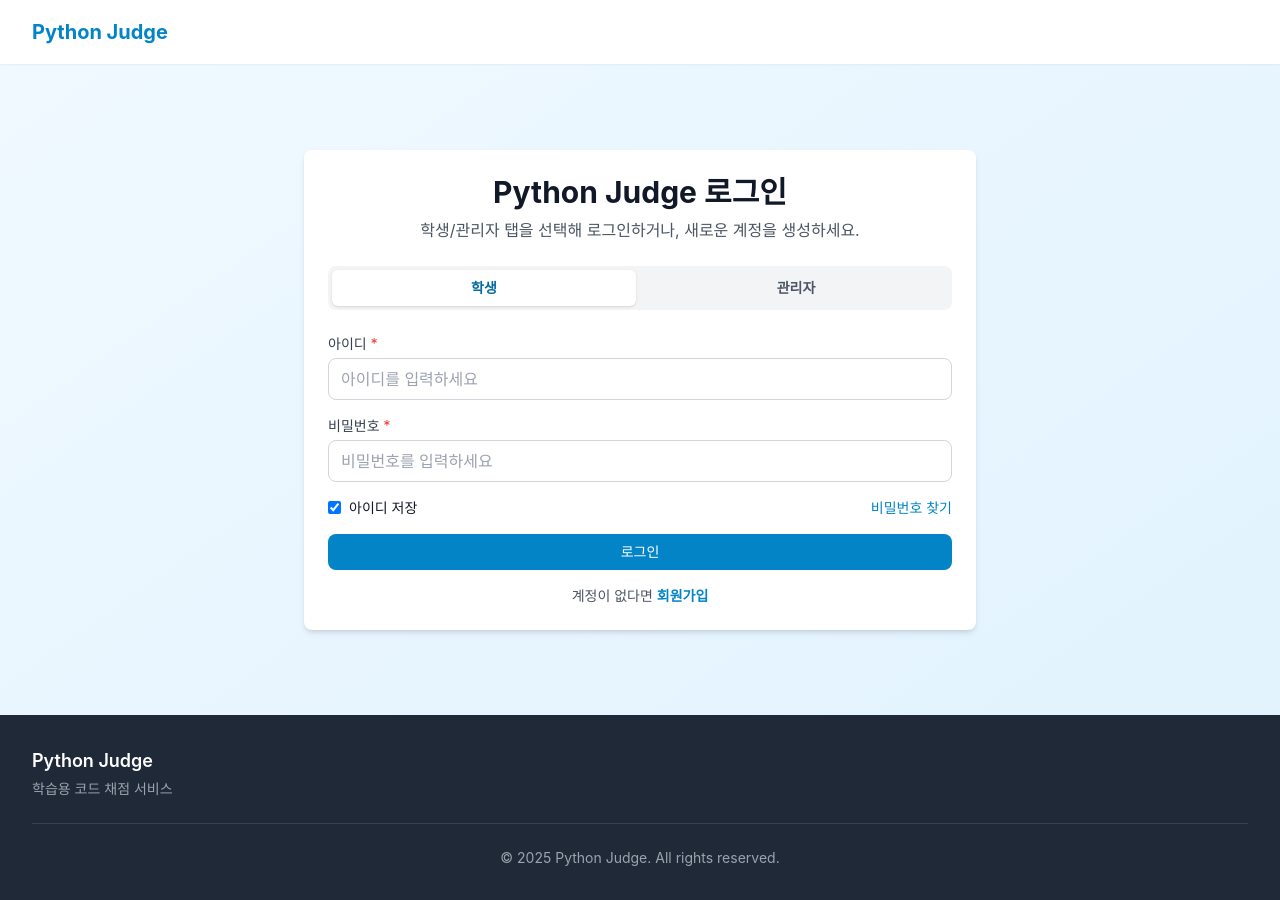
LoginPage › 로그인 실패 시 오류 메시지를 보여준다
Type "wrong" into the field with placeholder "아이디를 입력하세요" at (640, 378), box x1=328 y1=358 x2=952 y2=400
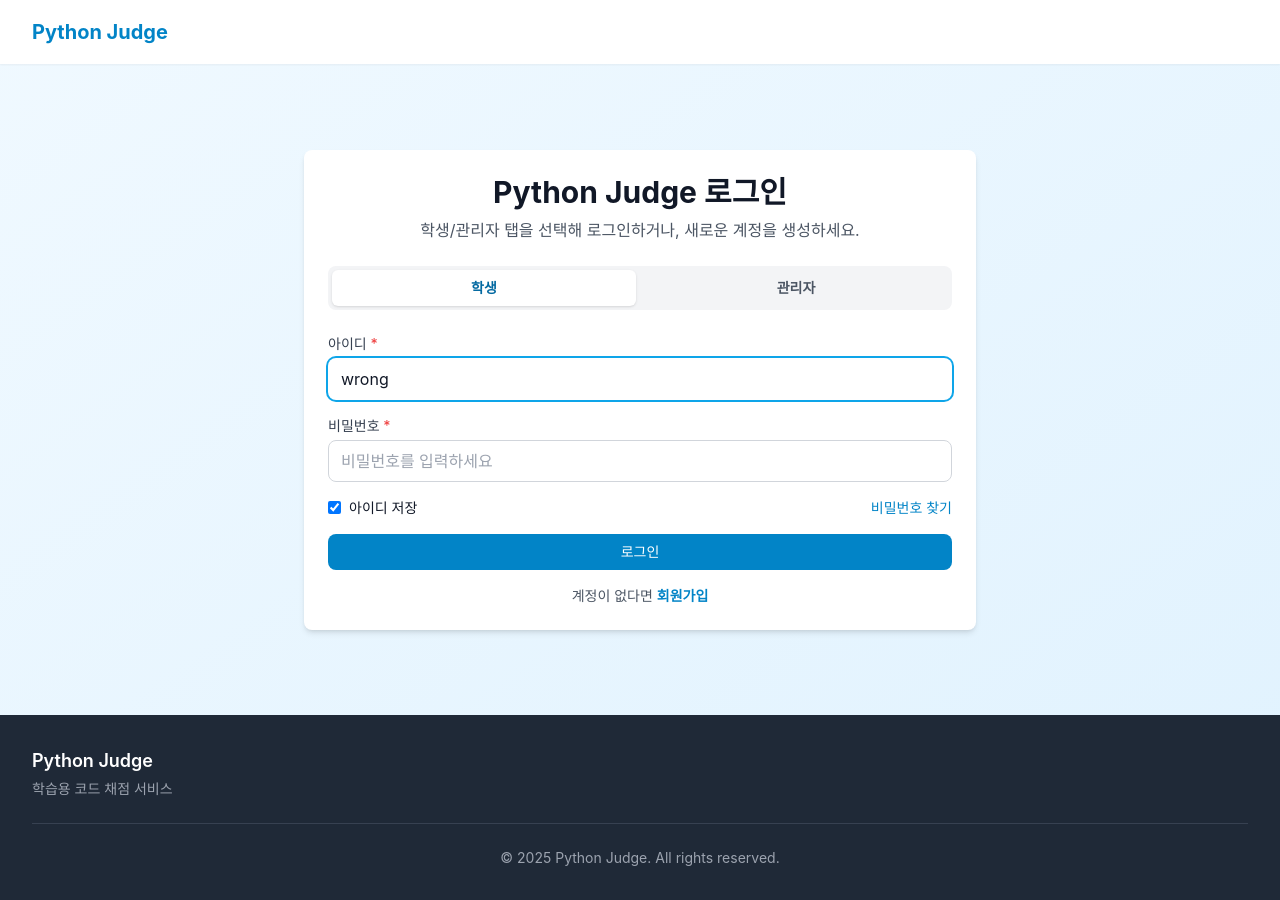
Type "wrong" into the password field with placeholder "비밀번호를 입력하세요" at (640, 460), box x1=328 y1=440 x2=952 y2=482
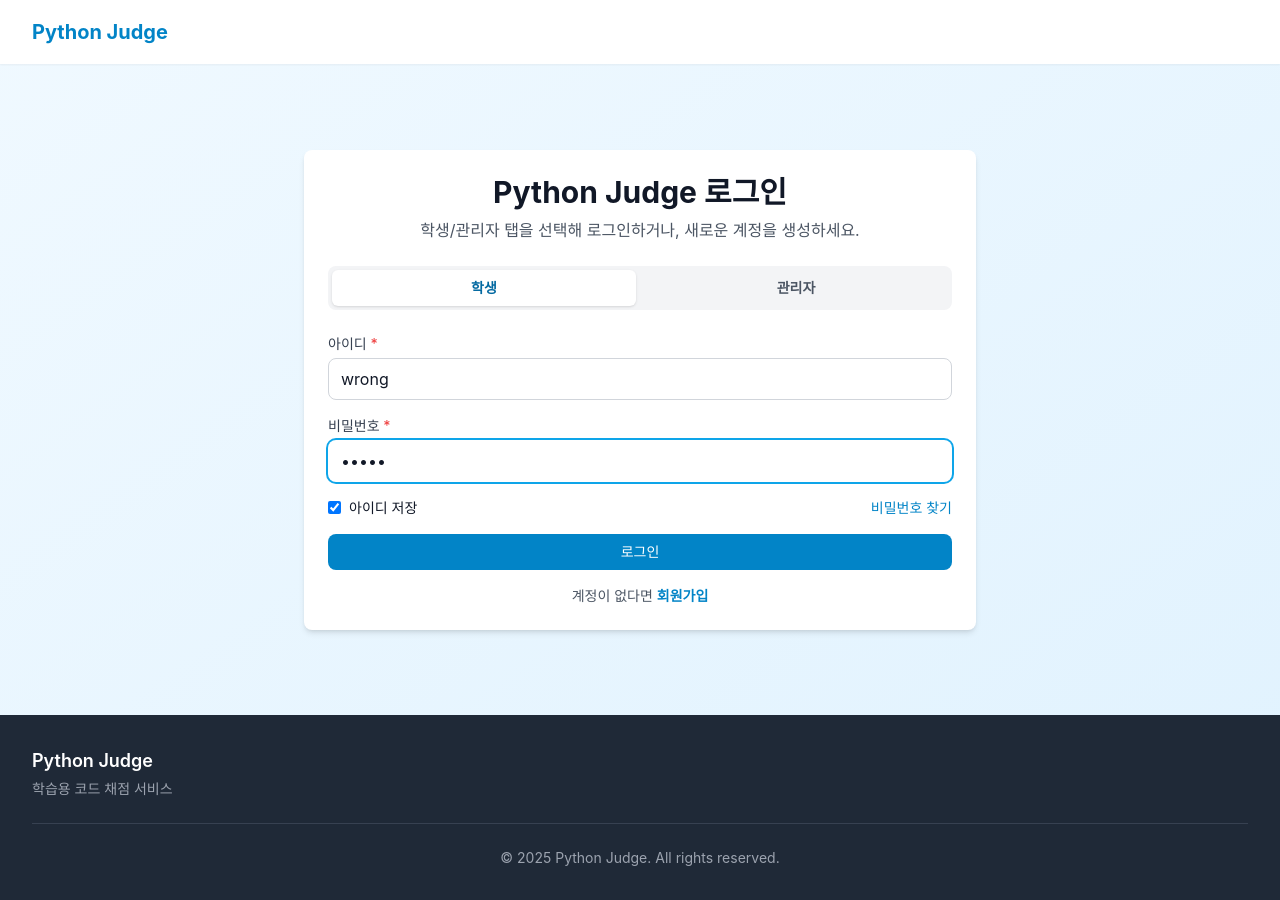
Click the button "로그인" at (640, 552), box x1=328 y1=534 x2=952 y2=570
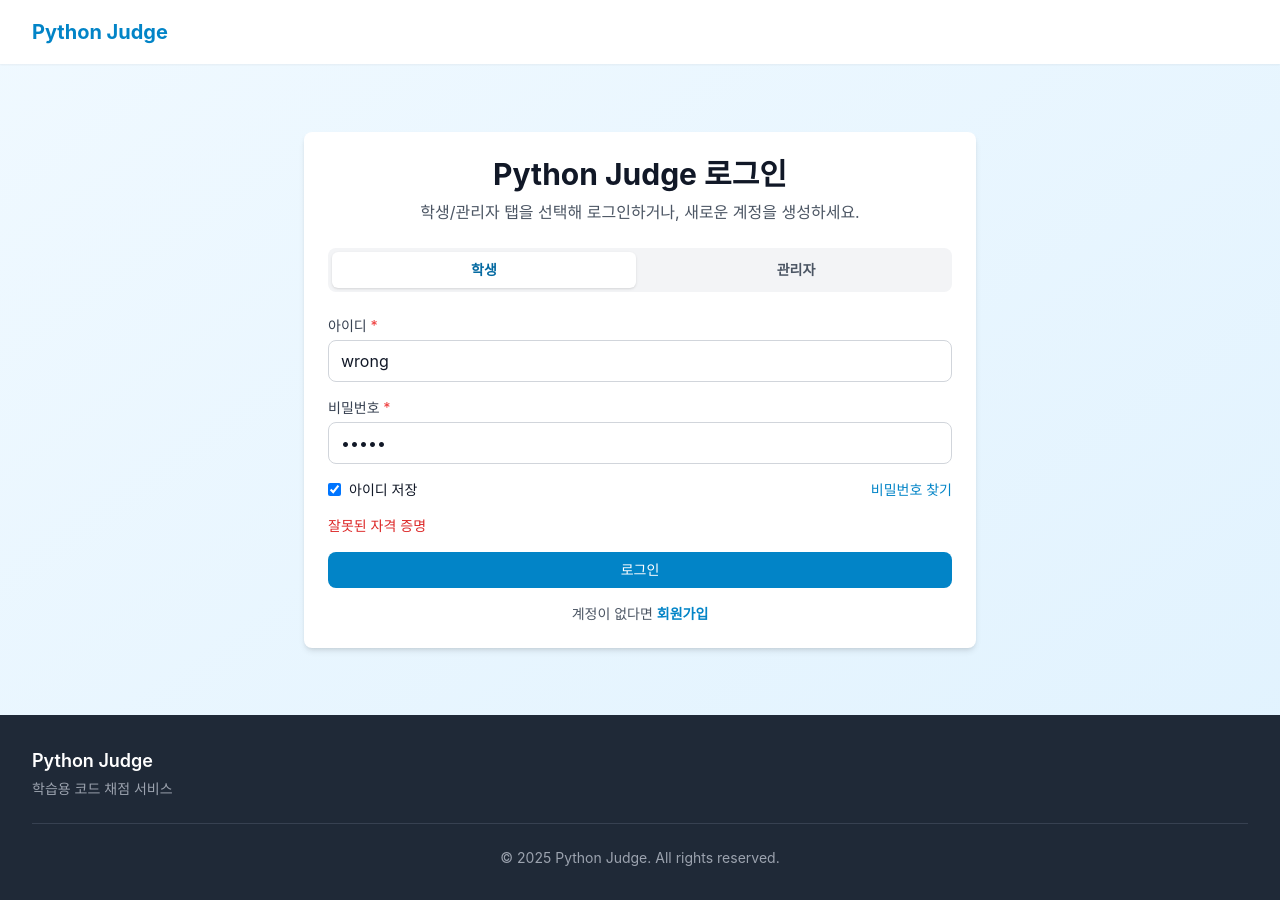
Expected: the message reads "잘못된 자격 증명", x1=328 y1=516 x2=426 y2=534
